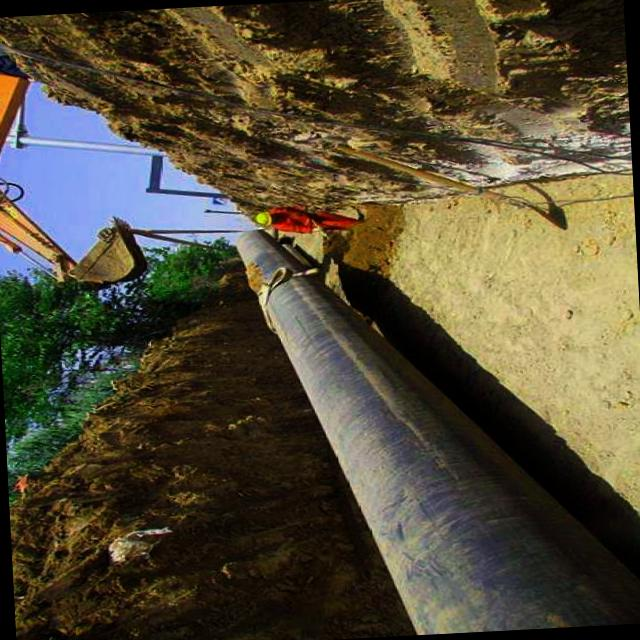gas: (237, 231, 640, 635)
